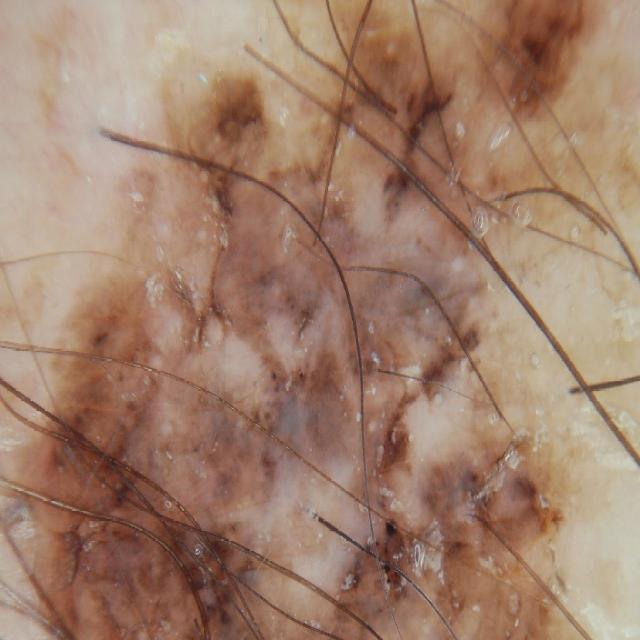Melanoma: (0, 50, 625, 640)
